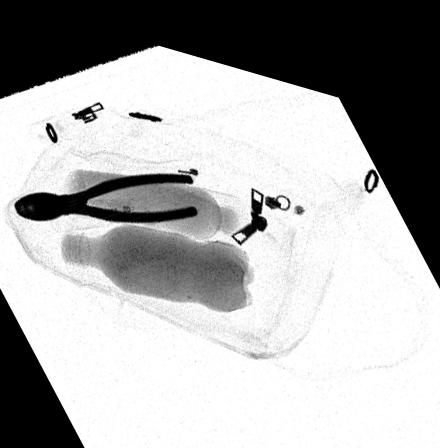Pliers: (9, 158, 206, 223)
